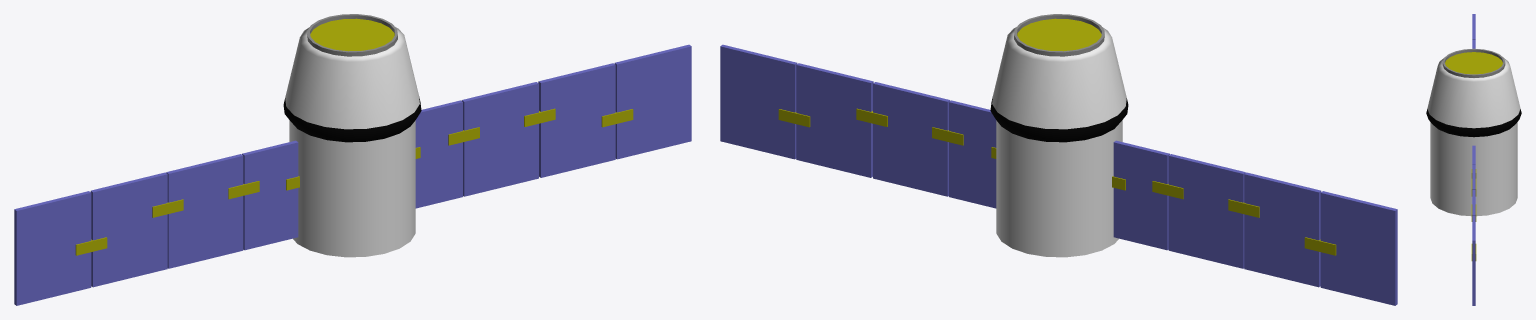
3 views of the same model, side by side, from view 1: azimuth 30°, elevation 25°; view 2: azimuth 150°, elevation 25°; view 3: azimuth 270°, elevation 25° (orthographic). The views are drawn at different scales.
Visible parts, largest first — view 1: pCylinder1, pCube11, pCube4, pCube3, pCube10, pCube9, pCube2, pCube8, pCube1; view 2: pCylinder1, pCube11, pCube4, pCube3, pCube10, pCube9, pCube2, pCube8, pCube1; view 3: pCylinder1, pCube4, pCube2, pCube3, pCube11, pCube1.
Boxes of the visible parts, box(x1,y1,x2,y2) form: pCylinder1: box(283, 14, 421, 257); pCube11: box(14, 191, 91, 305); pCube4: box(614, 44, 691, 159); pCube3: box(538, 63, 615, 177); pCube10: box(90, 172, 167, 287); pCube9: box(166, 154, 243, 268); pCube2: box(461, 82, 538, 196); pCube8: box(242, 140, 298, 250); pCube1: box(415, 100, 462, 208); pCylinder1: box(990, 14, 1128, 257); pCube11: box(1320, 191, 1397, 305); pCube4: box(720, 44, 797, 159); pCube3: box(796, 63, 873, 177); pCube10: box(1244, 172, 1321, 287); pCube9: box(1168, 154, 1245, 268); pCube2: box(873, 82, 950, 196); pCube8: box(1113, 140, 1169, 250); pCube1: box(949, 100, 996, 208); pCylinder1: box(1426, 48, 1521, 216); pCube4: box(1472, 215, 1475, 305); pCube2: box(1472, 164, 1475, 189); pCube3: box(1472, 190, 1475, 215); pCube11: box(1472, 14, 1475, 39); pCube1: box(1472, 145, 1475, 164).
Bounding box in the file's own units: 13.36 × 3.74 × 2.38.
